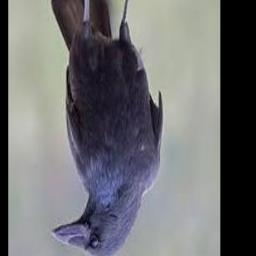Crow: (50, 0, 162, 256)
